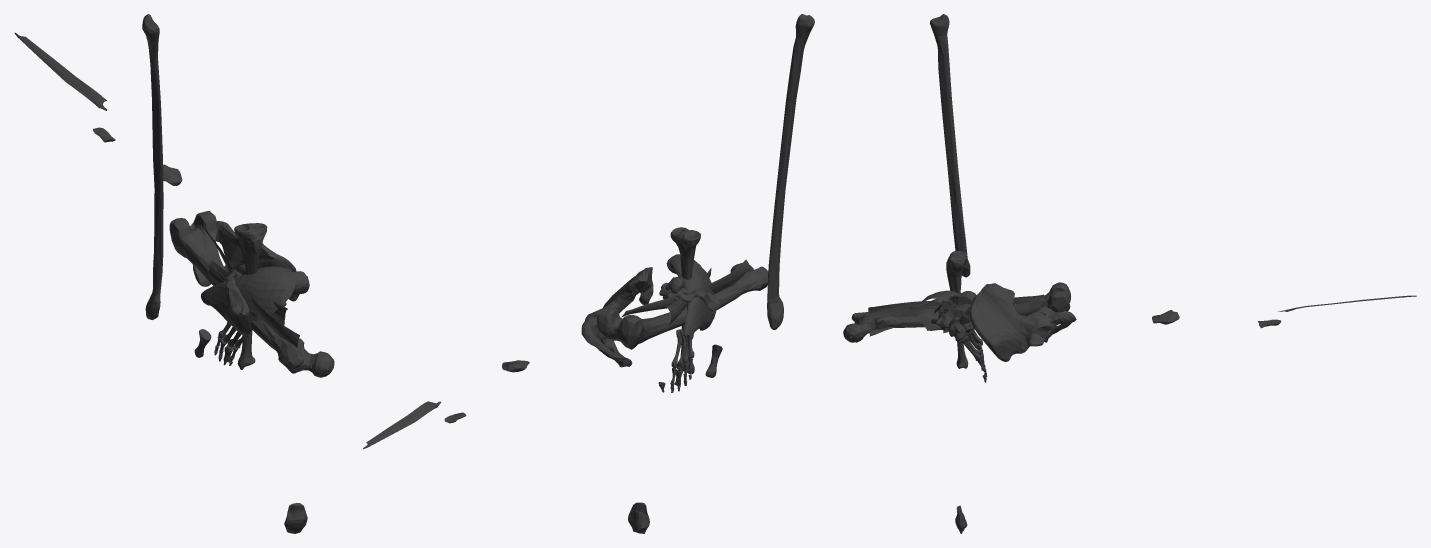
File: sharedassets23.glb
The picture shows the model from 3 angles, left to right: view 1: azimuth 30°, elevation 25°; view 2: azimuth 150°, elevation 25°; view 3: azimuth 270°, elevation 25°; orthographic projection. The views are drawn at different scales.
Parts seen in each view (by area): view 1: 0004_Femur _thigh_, R__000930, 0000_Gluteus medius, R__1000193, 0032_Fibula _leg_, R__000928, 0031_Tibia _leg_, R__000925, 0033_Interosseous membrane of the leg _middle, 0040_S01-05 Sacrum__001242, 0003_Iliotibial _Maissiat_s_ tract _band_, R_, 0034_Patella _knee cap_, R__000927, 0039_Ilium, R__001012, 0002_Tensor fascia lata _fasciae latae_, R_fe, 0072_Femur _thigh_, L_male_000854, 0038_Pubis, R__001011 (+1 smaller); view 2: 0032_Fibula _leg_, R__000928, 0004_Femur _thigh_, R__000930, 0000_Gluteus medius, R__1000193, 0071_Fibula _leg_, L__000922, 0070_Tibia _leg_, L__000923, 0003_Iliotibial _Maissiat_s_ tract _band_, R_, 0039_Ilium, R__001012, 0033_Interosseous membrane of the leg _middle, 0040_S01-05 Sacrum__001242, 0037_Ischium, R__001010, 0072_Femur _thigh_, L_male_000854, 0034_Patella _knee cap_, R__000927; view 3: 0039_Ilium, R__001012, 0071_Fibula _leg_, L__000922, 0076_Ilium, L_male_001003, 0004_Femur _thigh_, R__000930, 0072_Femur _thigh_, L_male_000854, 0003_Iliotibial _Maissiat_s_ tract _band_, R_, 0037_Ischium, R__001010.
Part boxes in pixels (bbox=[...]): 0004_Femur _thigh_, R__000930: bbox=[169, 211, 334, 374]; 0000_Gluteus medius, R__1000193: bbox=[201, 266, 295, 337]; 0032_Fibula _leg_, R__000928: bbox=[142, 14, 163, 319]; 0031_Tibia _leg_, R__000925: bbox=[234, 223, 267, 369]; 0033_Interosseous membrane of the leg _middle: bbox=[14, 32, 106, 110]; 0040_S01-05 Sacrum__001242: bbox=[223, 269, 286, 317]; 0003_Iliotibial _Maissiat_s_ tract _band_, R_: bbox=[205, 229, 299, 347]; 0034_Patella _knee cap_, R__000927: bbox=[284, 503, 307, 533]; 0039_Ilium, R__001012: bbox=[235, 237, 296, 271]; 0002_Tensor fascia lata _fasciae latae_, R_fe: bbox=[209, 260, 287, 325]; 0072_Femur _thigh_, L_male_000854: bbox=[175, 221, 334, 377]; 0038_Pubis, R__001011: bbox=[192, 251, 244, 286]; 0032_Fibula _leg_, R__000928: bbox=[767, 14, 814, 329]; 0004_Femur _thigh_, R__000930: bbox=[596, 263, 768, 349]; 0000_Gluteus medius, R__1000193: bbox=[666, 254, 716, 335]; 0071_Fibula _leg_, L__000922: bbox=[767, 14, 813, 321]; 0070_Tibia _leg_, L__000923: bbox=[670, 227, 700, 373]; 0003_Iliotibial _Maissiat_s_ tract _band_, R_: bbox=[621, 259, 750, 317]; 0039_Ilium, R__001012: bbox=[597, 267, 652, 336]; 0033_Interosseous membrane of the leg _middle: bbox=[363, 401, 440, 449]; 0040_S01-05 Sacrum__001242: bbox=[659, 282, 720, 311]; 0037_Ischium, R__001010: bbox=[581, 309, 614, 356]; 0072_Femur _thigh_, L_male_000854: bbox=[596, 282, 767, 349]; 0034_Patella _knee cap_, R__000927: bbox=[628, 502, 649, 533]; 0039_Ilium, R__001012: bbox=[970, 283, 1036, 360]; 0071_Fibula _leg_, L__000922: bbox=[931, 14, 969, 277]; 0076_Ilium, L_male_001003: bbox=[969, 283, 1035, 361]; 0004_Femur _thigh_, R__000930: bbox=[843, 282, 1070, 339]; 0072_Femur _thigh_, L_male_000854: bbox=[843, 288, 1070, 342]; 0003_Iliotibial _Maissiat_s_ tract _band_, R_: bbox=[868, 294, 1046, 336]; 0037_Ischium, R__001010: bbox=[1031, 306, 1076, 330].
Bounding box in the file's own units: 0.1862 × 0.5473 × 0.624.
1 material, 1 textured.
